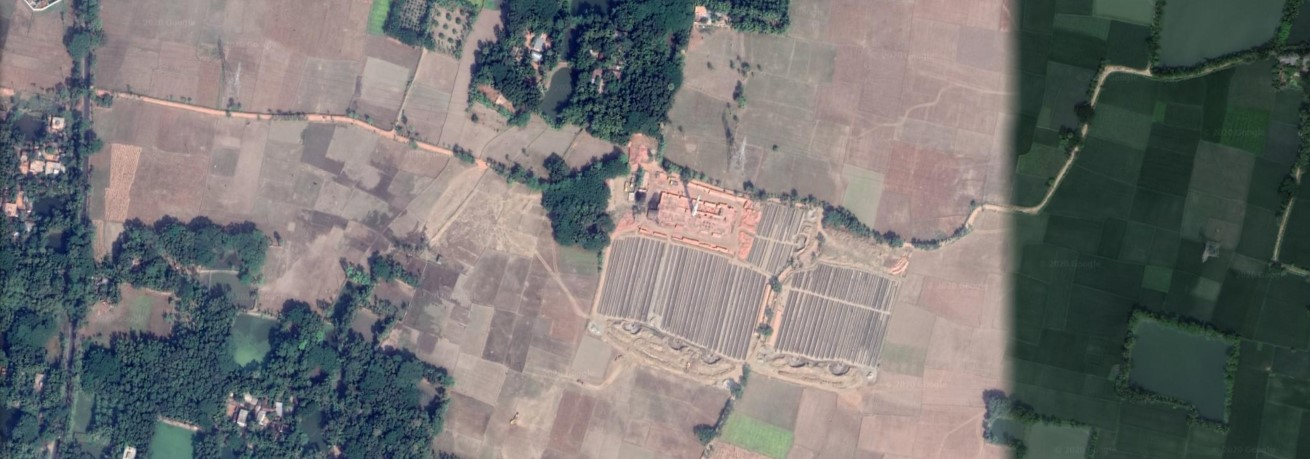kiln: (648, 174, 738, 233)
